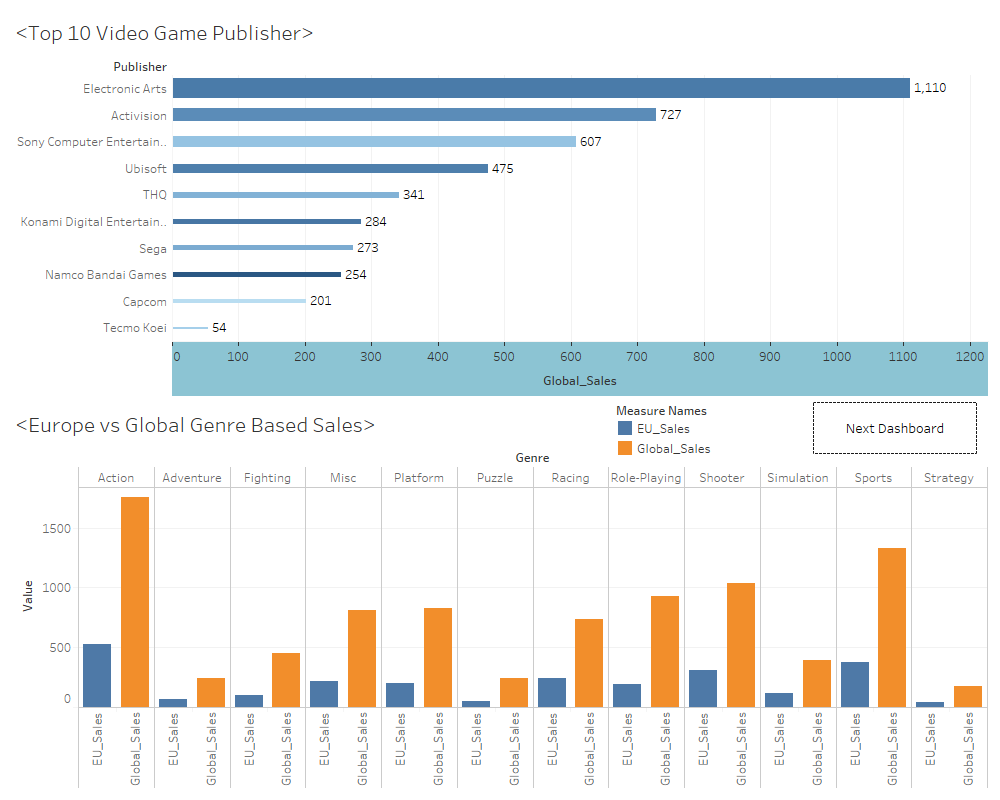

The dashboard page shown, as its layout file describes it:
{"tool":"tableau","page":{"name":"Dashboard 1","canvas":[1000,800],"ordinal":0},"visuals":[{"type":"worksheet","box":[0,0,1000,800]},{"type":"worksheet","param":"vert","box":[8,8,984,784]},{"type":"worksheet","param":"vert","box":[8,8,984,784]},{"type":"worksheet","param":"horz","box":[8,8,984,784]},{"type":"worksheet","box":[8,8,984,784]},{"type":"worksheet","title":"Sheet 2","mark":"Automatic","rows":["Publisher"],"cols":["Global_Sales"],"box":[8,8,984,392]},{"type":"worksheet","title":"Sheet 3","mark":"Automatic","cols":["Genre"],"box":[8,400,984,392]},{"type":"worksheet","title":"Sheet 3","mark":"Automatic","cols":["Genre"],"param":"[federated.1a86ma41t2lm4e119kwna1d6r5dr].[:Measure Names]","box":[615,400,140,58]},{"type":"worksheet","box":[813,402,164,52]}]}

Visuals, with their boxes in screenshot pixels (x1, y1, x2, y2), scaled from the page's 1000x800 canvas onto the 1000x800 screenshot:
worksheet: 0:0:999:799
worksheet: 8:8:992:792
worksheet: 8:8:992:792
worksheet: 8:8:992:792
worksheet: 8:8:992:792
"Sheet 2" worksheet: 8:8:992:400
"Sheet 3" worksheet: 8:400:992:792
"Sheet 3" worksheet: 615:400:755:458
worksheet: 813:402:977:454
